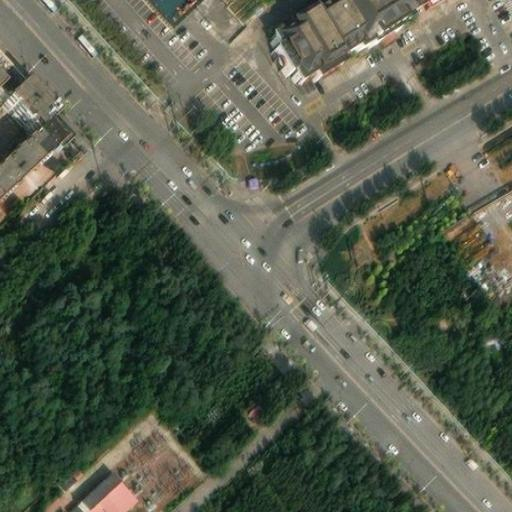building: (0, 121, 64, 200), (4, 76, 57, 130), (86, 477, 143, 512), (81, 465, 121, 504), (264, 348, 296, 381), (52, 460, 86, 491), (66, 498, 90, 512)
